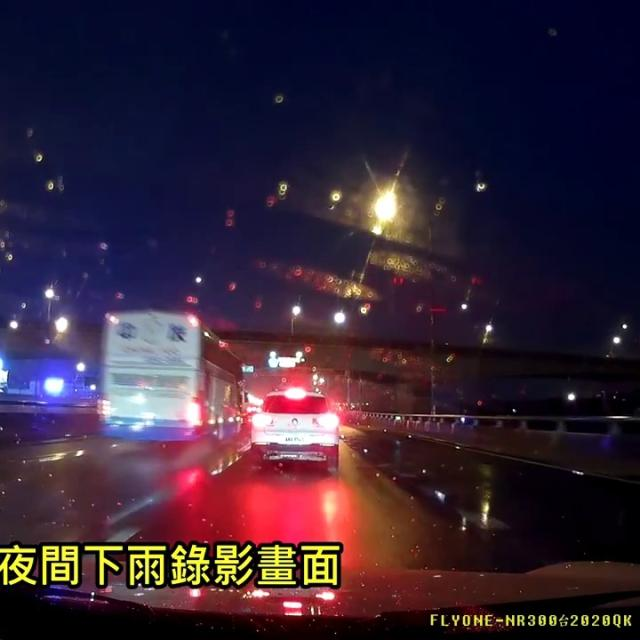Car: (247, 387, 340, 472)
